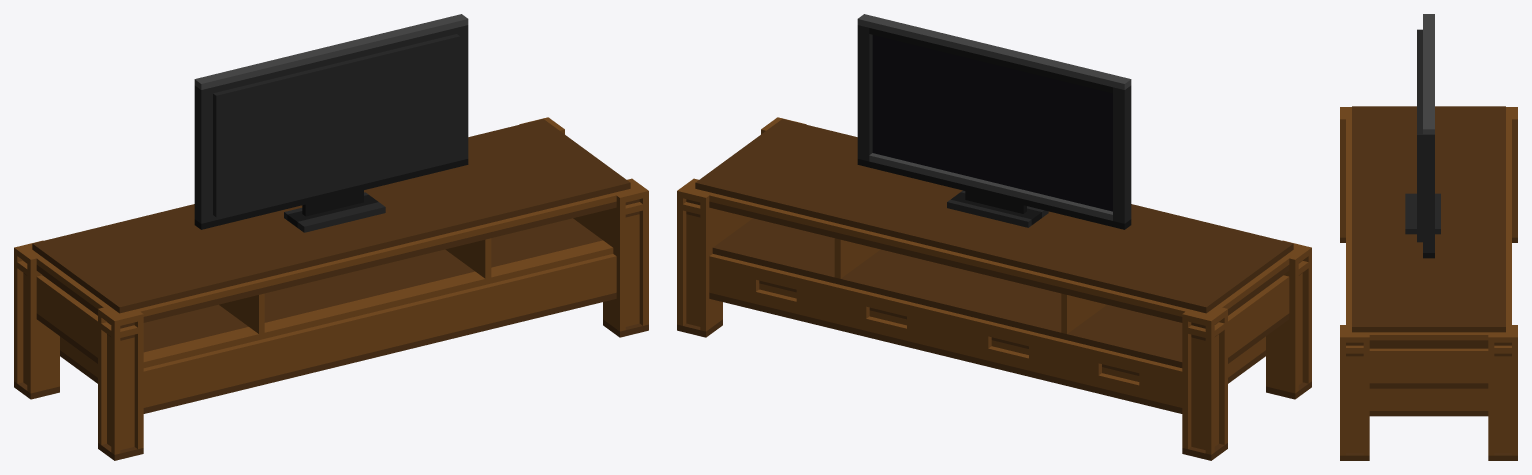
Rendered from rack_tv.obj.
3 views of the same model, side by side, from view 1: azimuth 30°, elevation 25°; view 2: azimuth 150°, elevation 25°; view 3: azimuth 270°, elevation 25° (orthographic). The views are drawn at different scales.
Parts seen in each view (by area): view 1: rack_tv; view 2: rack_tv; view 3: rack_tv.
Boxes of the visible parts, x1,y1,x2,y2 form: rack_tv: (14,14,648,460); rack_tv: (677,14,1311,460); rack_tv: (1340,14,1517,460).
Size of the model in its own units: 92 by 51 by 30.
Materials: 1 (1 with a texture image).
